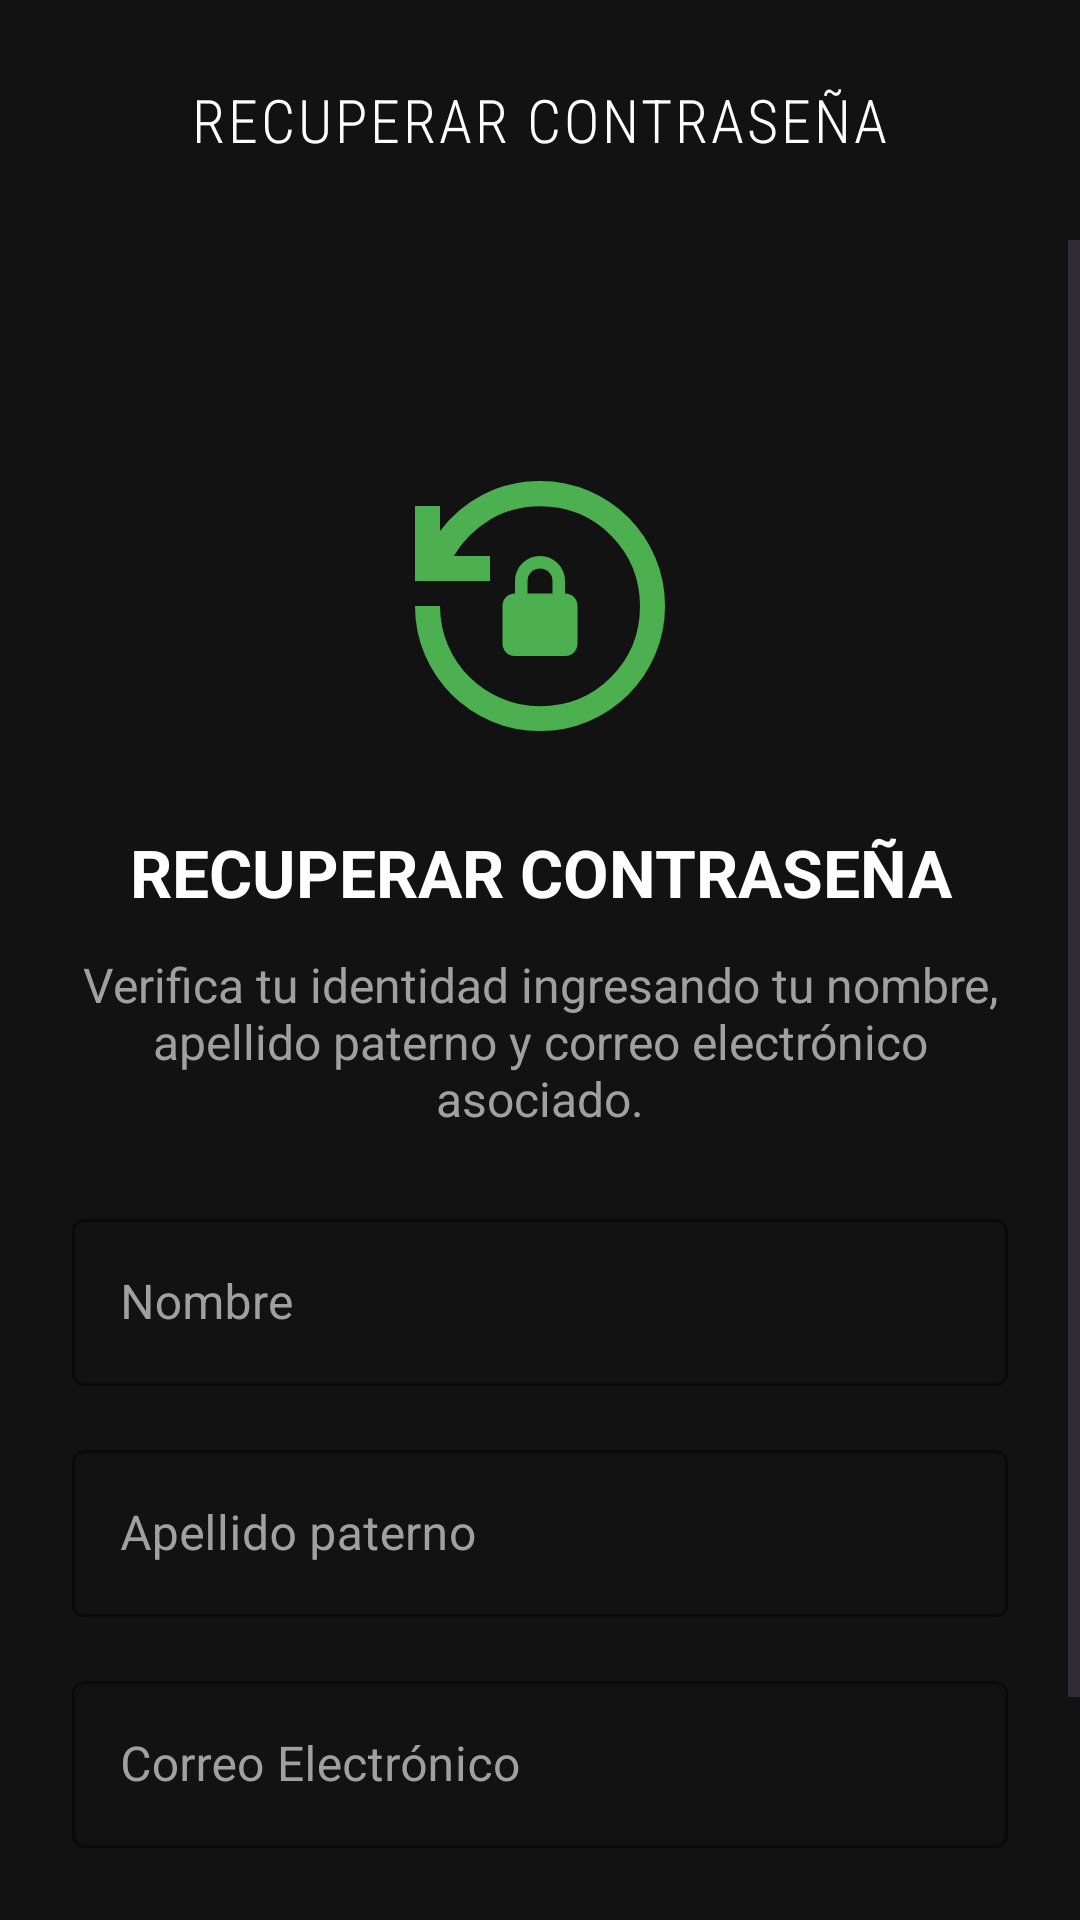

Named icons in this screenshot (1080 x 1920) and their centers, [x,y]:
Ícono de candado: [540,606]
